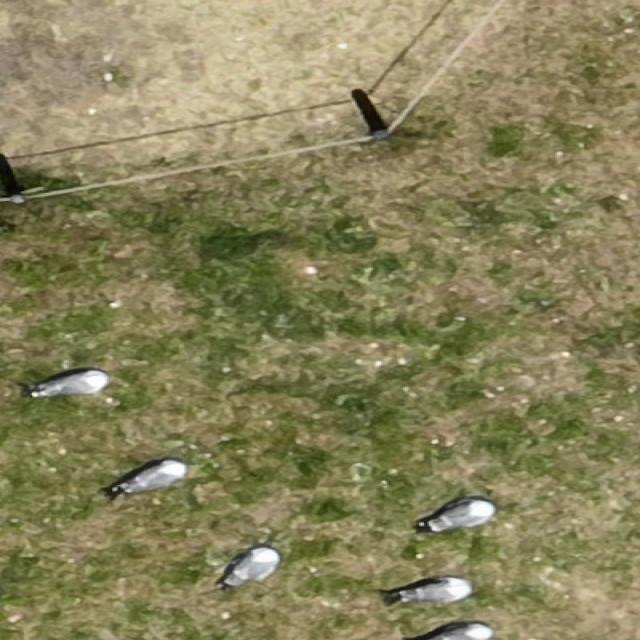umineko: (394, 574, 474, 606), (228, 548, 276, 580), (439, 502, 492, 528), (129, 464, 182, 490), (47, 372, 105, 394), (436, 622, 492, 640)
